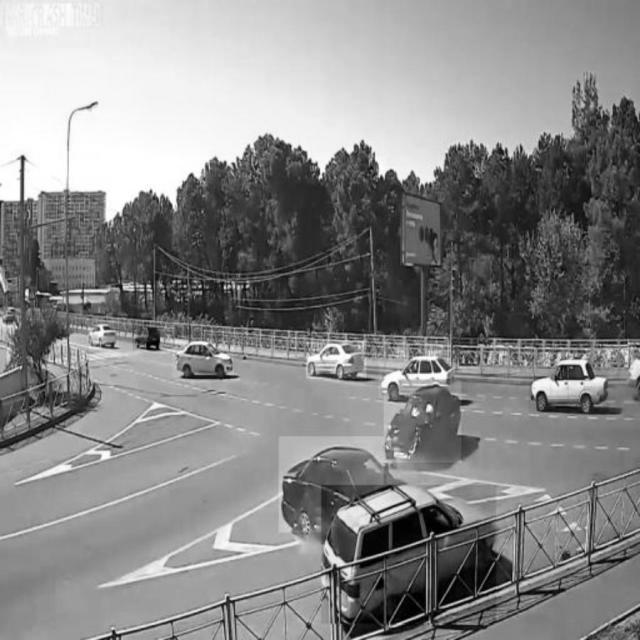vehicle: (322, 485, 497, 623), (280, 437, 384, 533), (384, 380, 461, 463), (530, 359, 610, 411), (379, 352, 456, 399), (173, 339, 234, 379), (307, 340, 367, 378), (133, 322, 160, 350), (89, 320, 115, 348)
